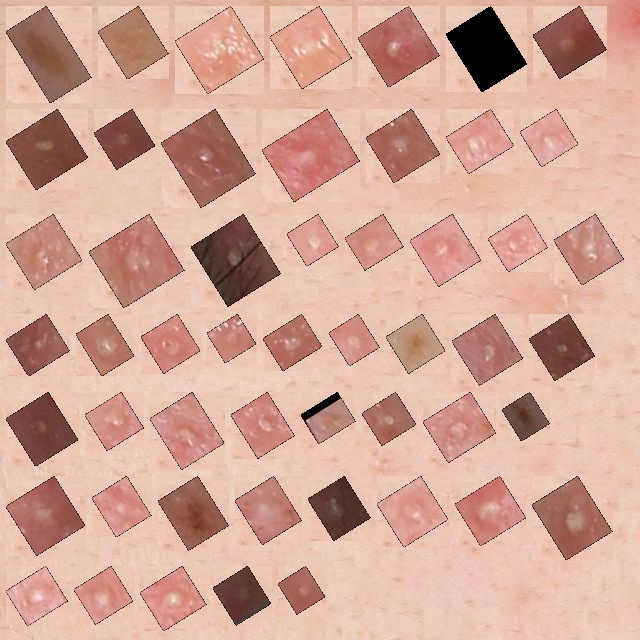hypertrophic_scar: (246, 487, 291, 533)
melasma: (17, 17, 80, 92), (109, 17, 157, 68), (397, 325, 434, 362), (312, 403, 344, 433)
nevus: (169, 487, 218, 539), (513, 403, 539, 430)
pustule: (172, 120, 245, 196), (273, 120, 349, 191), (100, 225, 173, 297), (202, 225, 270, 295), (186, 17, 253, 83), (457, 17, 516, 81), (543, 487, 601, 549), (281, 17, 340, 77), (369, 17, 429, 76), (17, 120, 77, 179), (17, 487, 74, 544), (17, 225, 71, 278), (161, 403, 213, 458), (377, 120, 429, 172), (544, 17, 596, 67), (17, 403, 67, 455), (421, 225, 470, 275), (434, 403, 485, 451), (463, 325, 512, 374), (388, 487, 437, 536), (565, 225, 613, 274), (466, 487, 515, 535), (457, 120, 503, 163), (540, 325, 584, 369), (151, 577, 195, 620), (242, 403, 283, 447), (319, 487, 359, 529), (17, 325, 58, 365), (17, 577, 57, 615), (105, 120, 144, 158), (103, 487, 140, 526), (87, 325, 123, 365), (152, 325, 189, 362), (96, 403, 133, 439), (85, 577, 122, 613), (224, 577, 260, 614), (499, 225, 537, 260), (531, 120, 567, 156), (274, 325, 311, 360), (356, 225, 392, 259), (373, 403, 405, 434), (298, 225, 327, 255), (340, 325, 368, 355), (218, 325, 245, 352), (289, 577, 314, 603)
